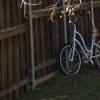Bicycle: (53, 18, 96, 86)
